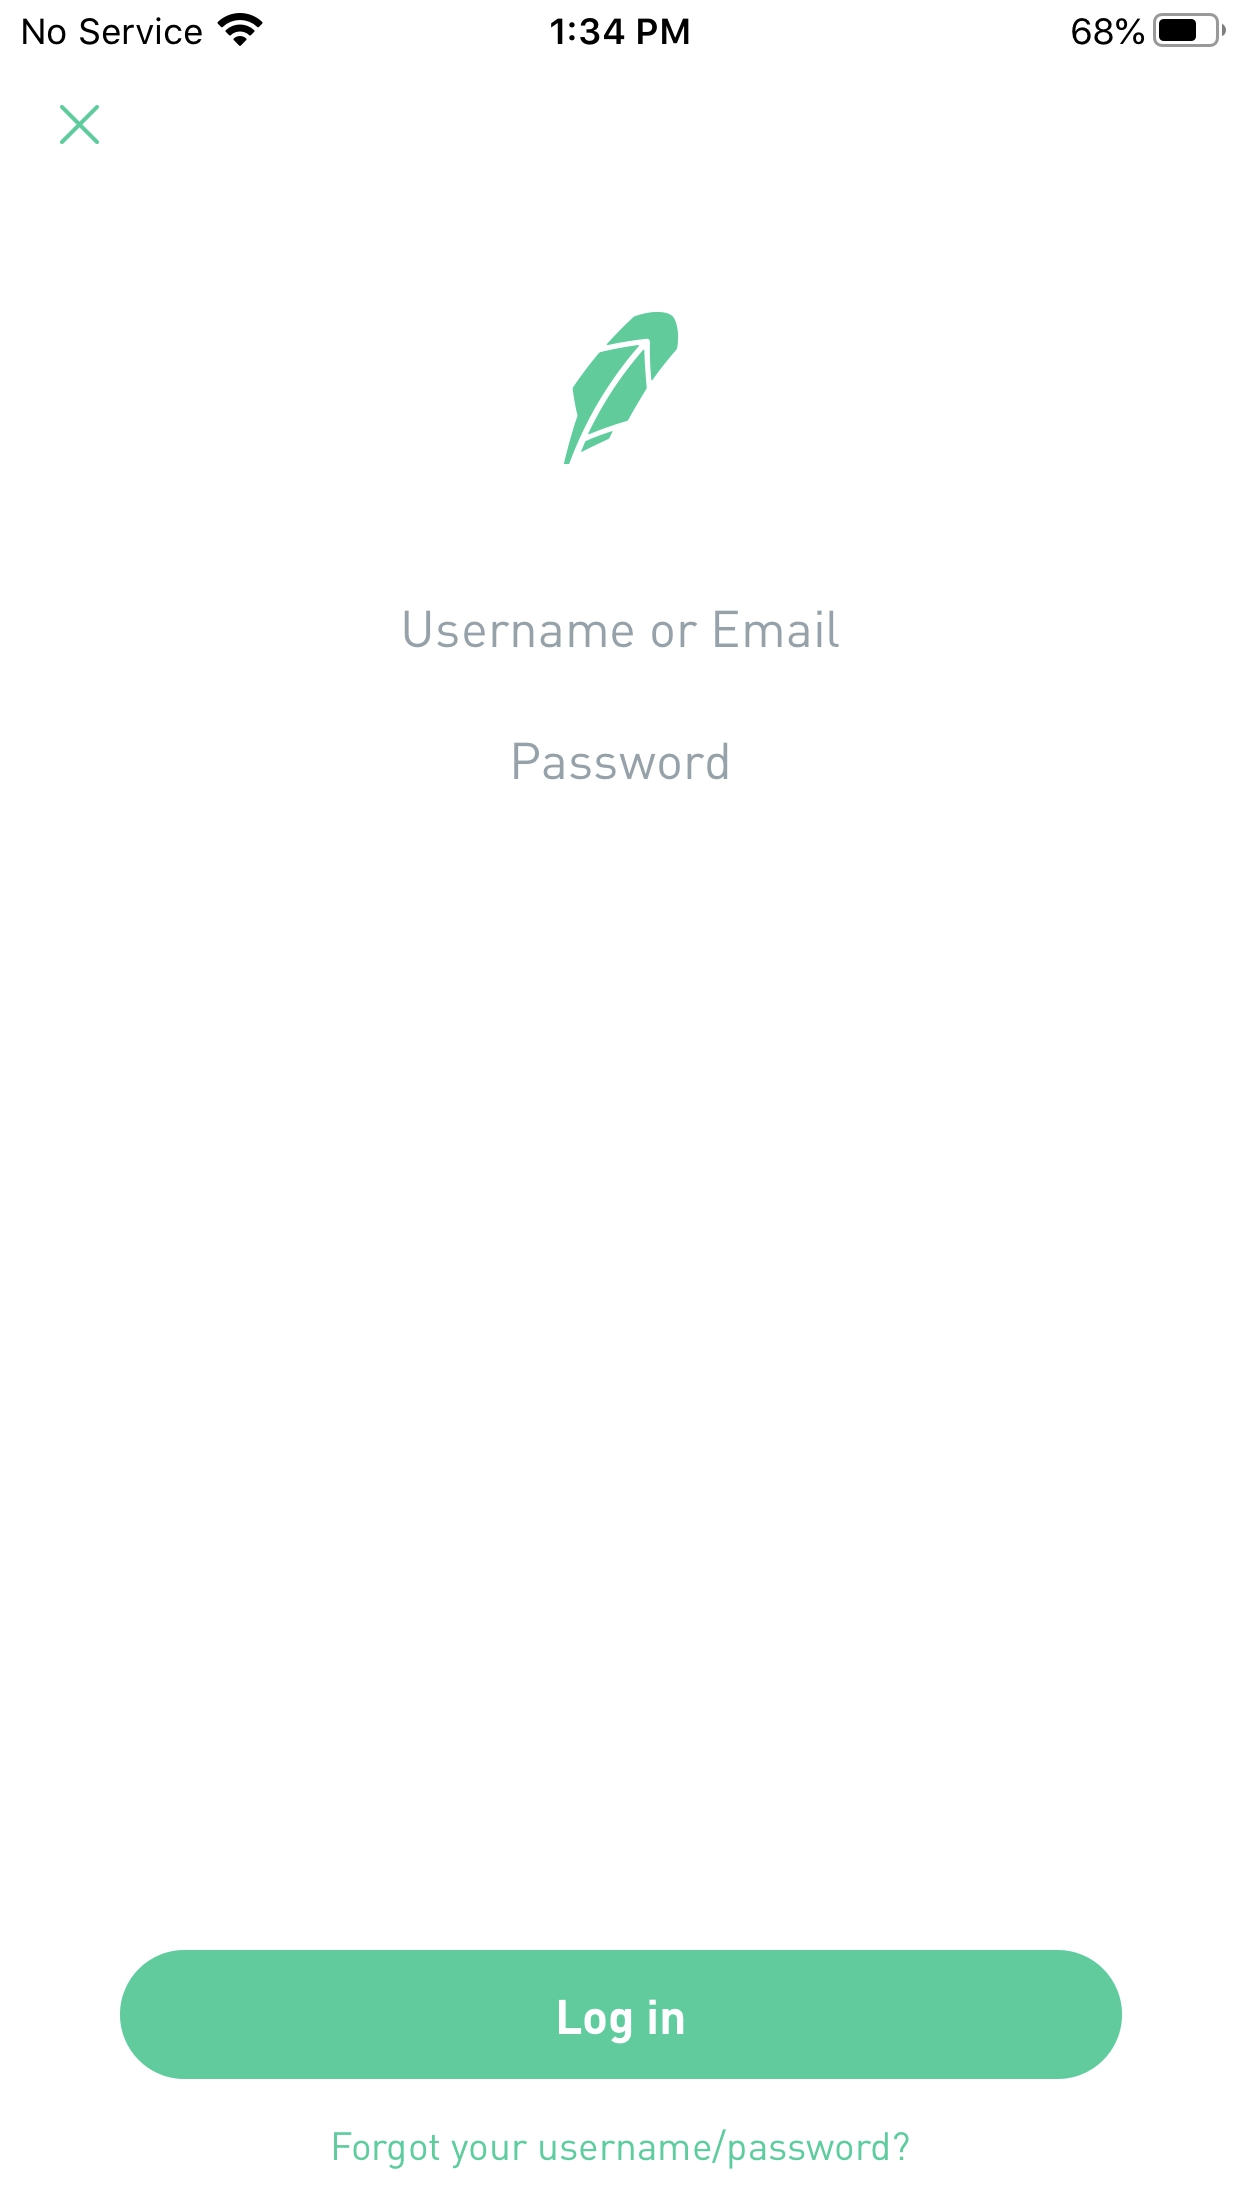EditText: (403, 610, 839, 648)
Icon: (61, 106, 99, 144)
Image: (564, 312, 678, 464)
Text: (334, 2129, 908, 2169), (514, 742, 728, 779)
TextButton: (120, 1949, 1122, 2079)
UpperTaskBar: (2, 2, 1242, 49)
